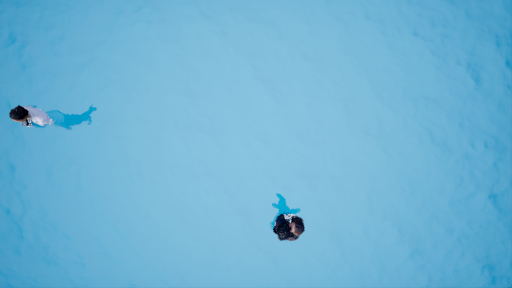person: (261, 191, 314, 245)
